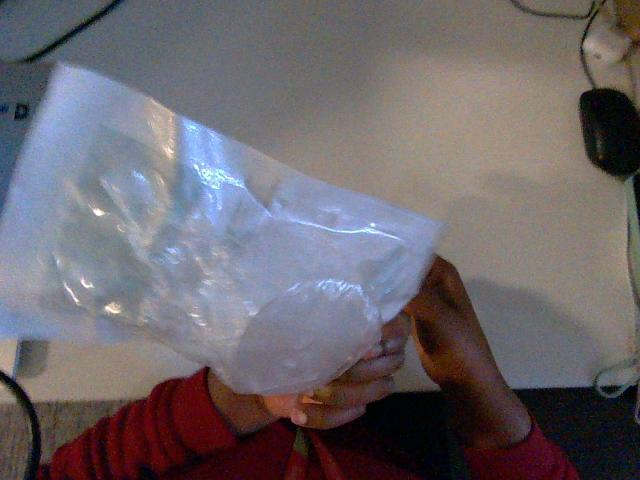gallipot: (0, 66, 441, 393)
